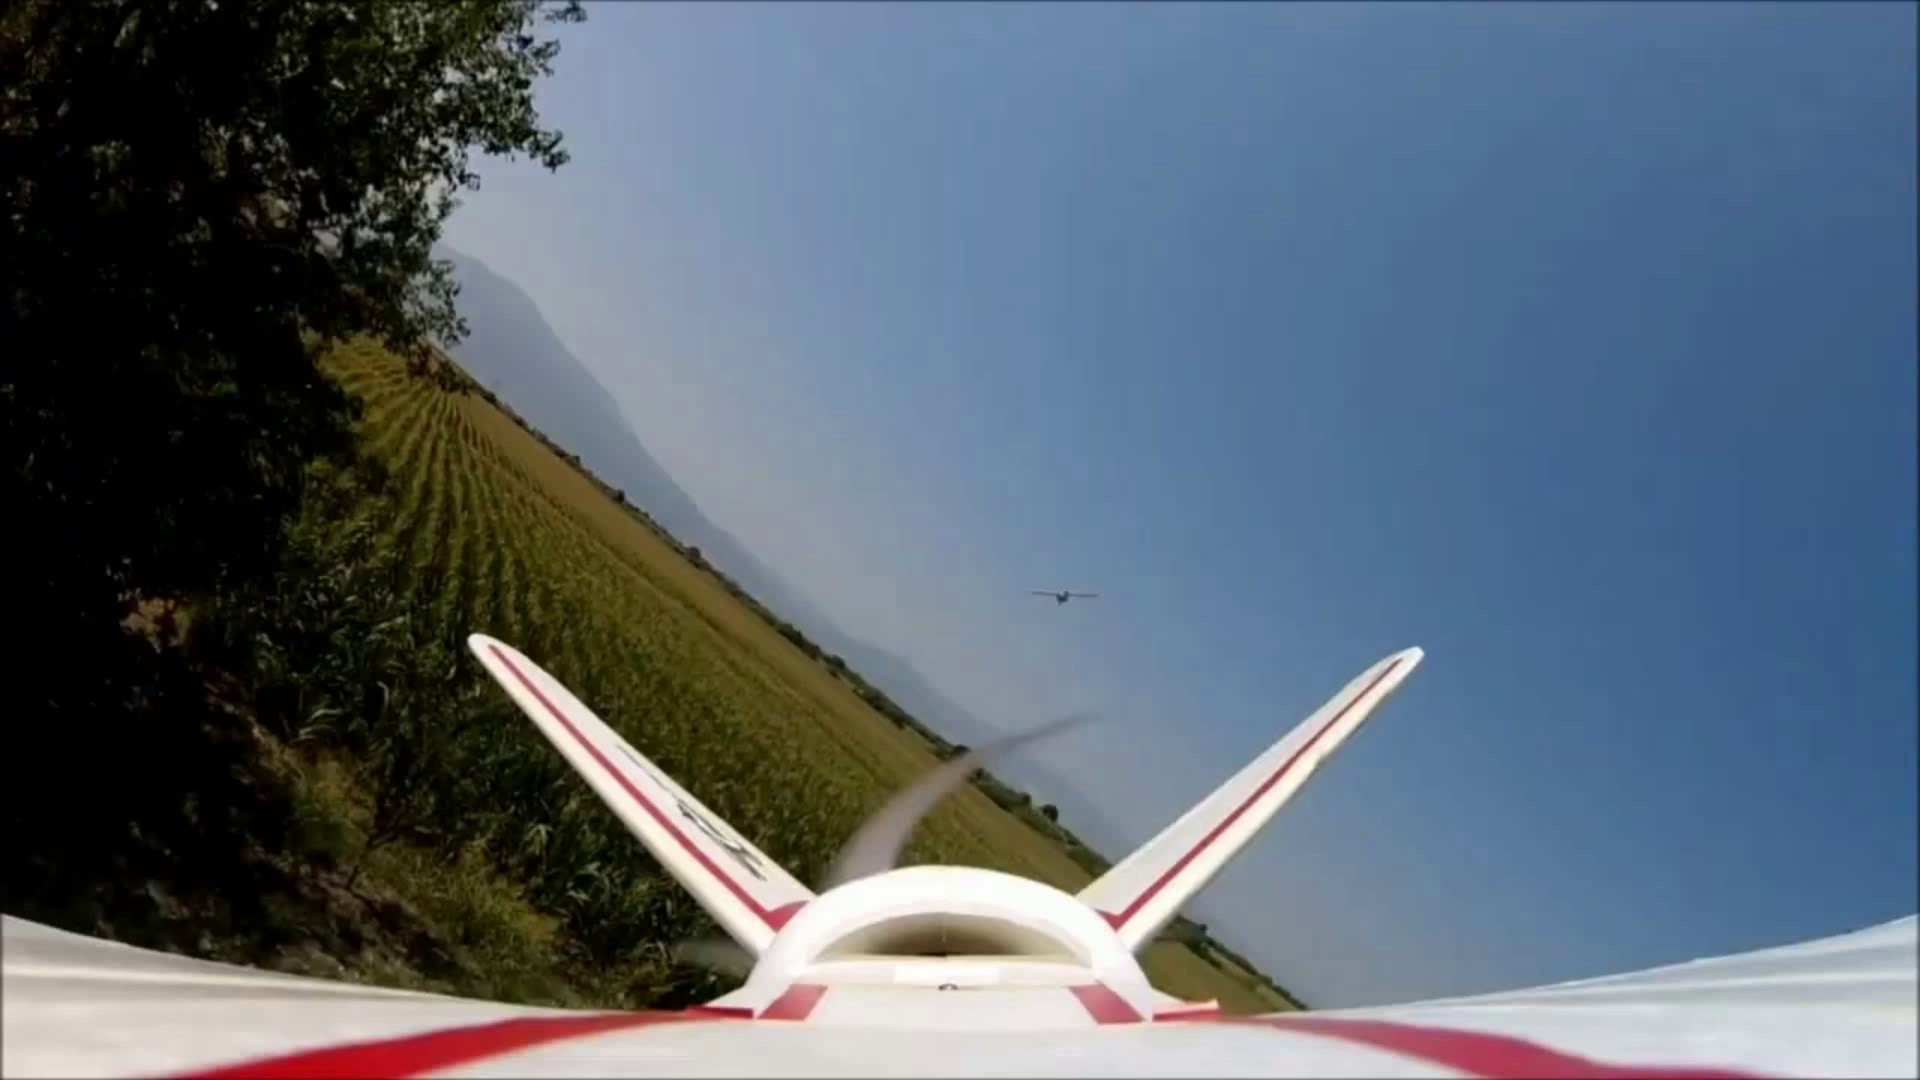airplane: (32, 270, 1882, 1063)
